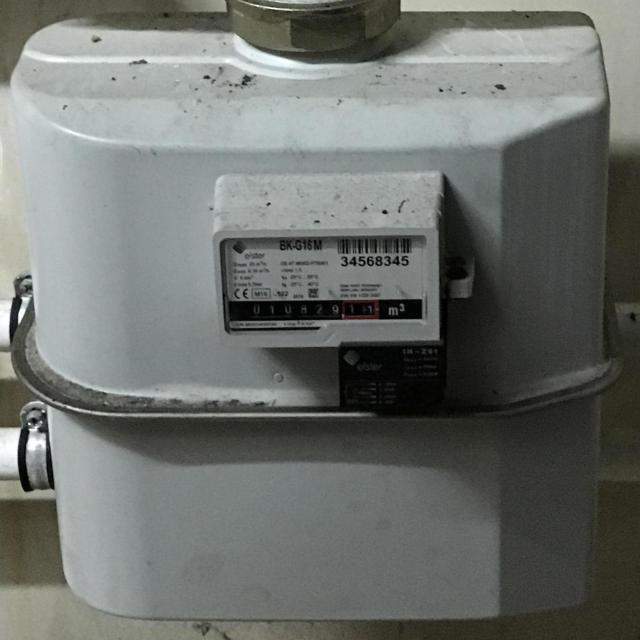gaz_meter: (217, 236, 431, 332)
indication: (242, 296, 378, 324)
